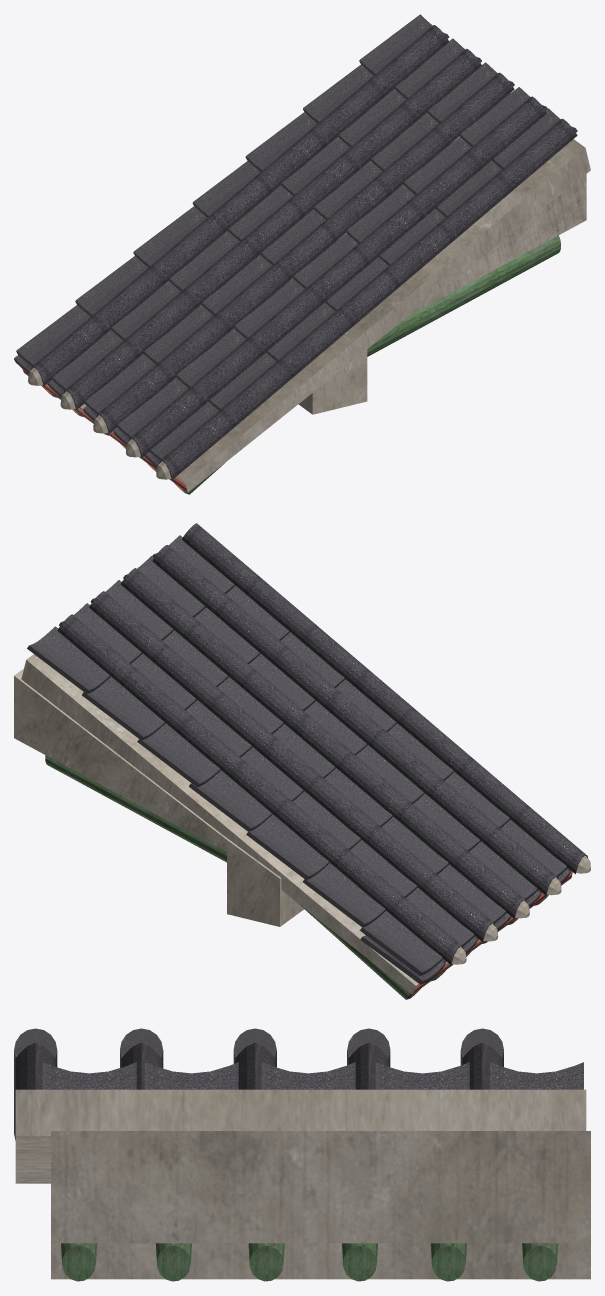
The model's file is SM_Roof_2.fbx.
The picture shows the model from 3 angles, top to bottom: view 1: azimuth 30°, elevation 25°; view 2: azimuth 150°, elevation 25°; view 3: azimuth 270°, elevation 25°; orthographic projection. The views are drawn at different scales.
Visible parts, largest first — view 1: SM_Roof_2; view 2: SM_Roof_2; view 3: SM_Roof_2.
Boxes of the visible parts, left/top/right/bottom form: SM_Roof_2: left=14, top=14, right=590, bottom=494; SM_Roof_2: left=14, top=523, right=590, bottom=999; SM_Roof_2: left=14, top=1028, right=590, bottom=1281.
Bounding box in the file's own units: 336 × 222 × 218.
Materials: 4 (4 with a texture image).
